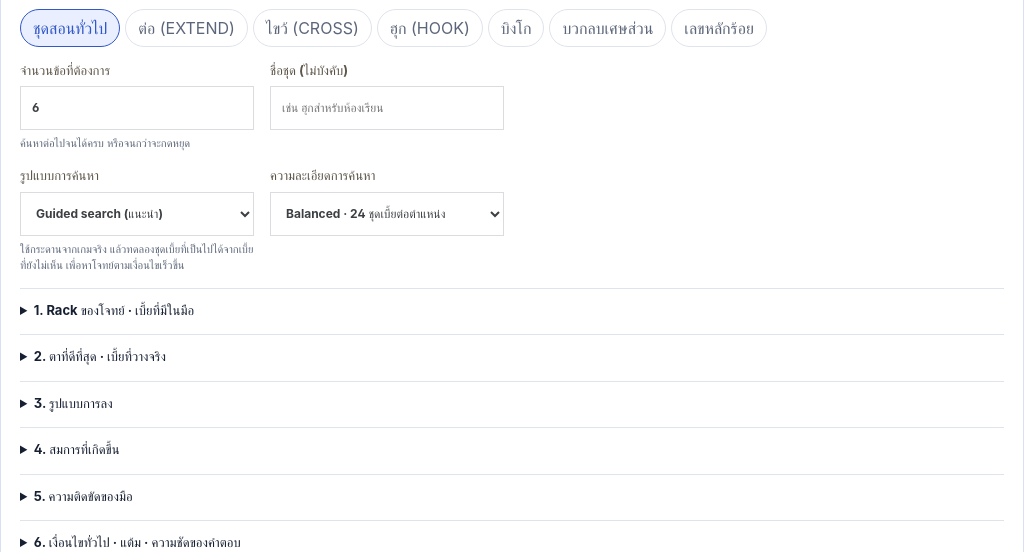
Test: Admin → Study puzzles › rejects a best-play tile that the requested rack cannot contain
Click the heading "1. Rack ของโจทย์ · เบี้ยที่มีในมือ": (114, 310) [34,302,194,318]
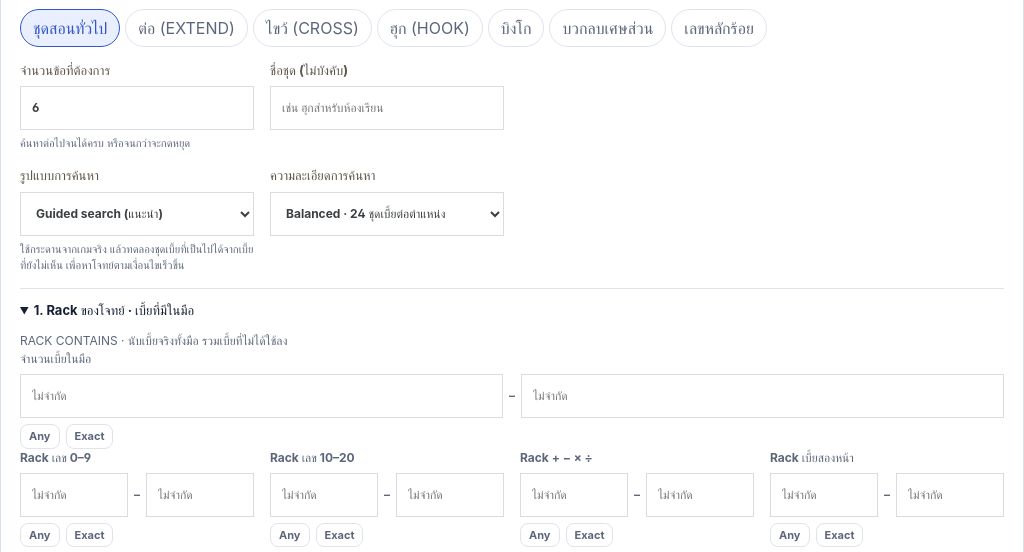
In the number field named "Rack + − × ÷ ขั้นสูง": (700, 495) [646,473,754,517], type "0"
(page scrolled)
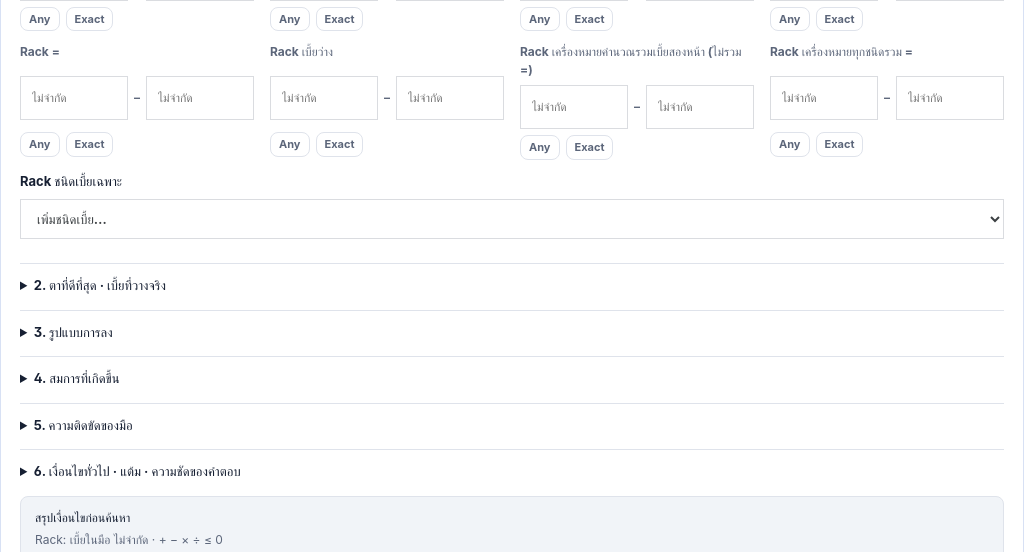
Click the heading "2. ตาที่ดีที่สุด · เบี้ยที่วางจริง": (100, 285) [34,277,166,293]
(page scrolled)
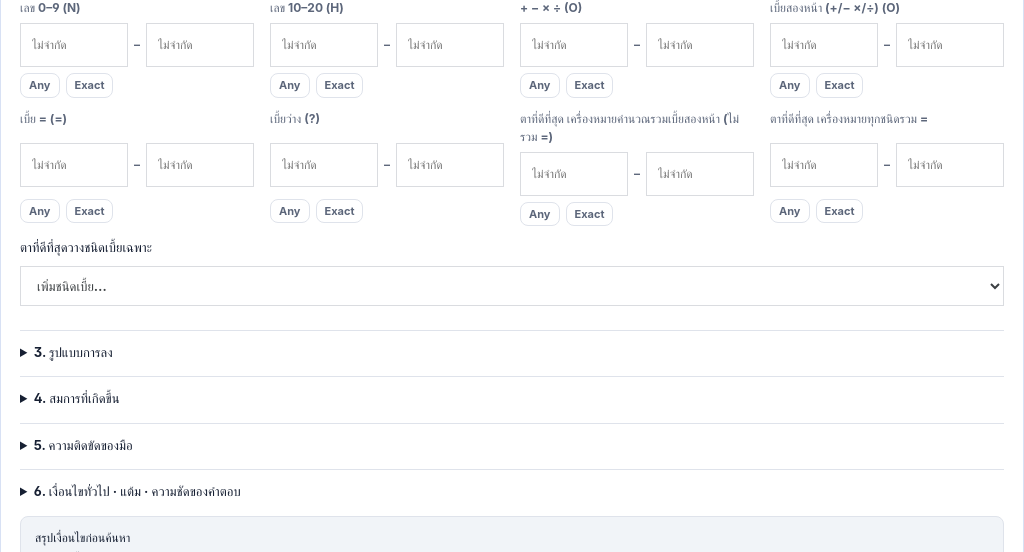
Select "× (x)" in the dropdown named "ตาที่ดีที่สุดวางชนิดเบี้ยเฉพาะ เพิ่มชนิดเบี้ย": (512, 286) [20,266,1004,306]
(page scrolled)
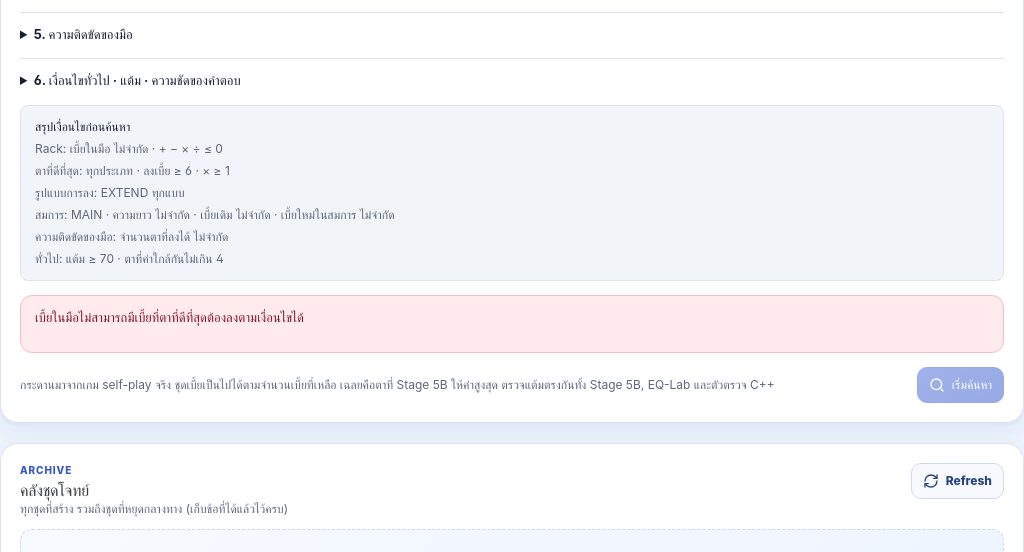
Check: the message shows "เบี้ยในมือไม่สามารถมีเบี้ยที่ตาที่ดีที่สุดต้องลง", box [35,308,304,324]
Check: the button "เริ่มค้นหา" is disabled, box [917,367,1004,403]
